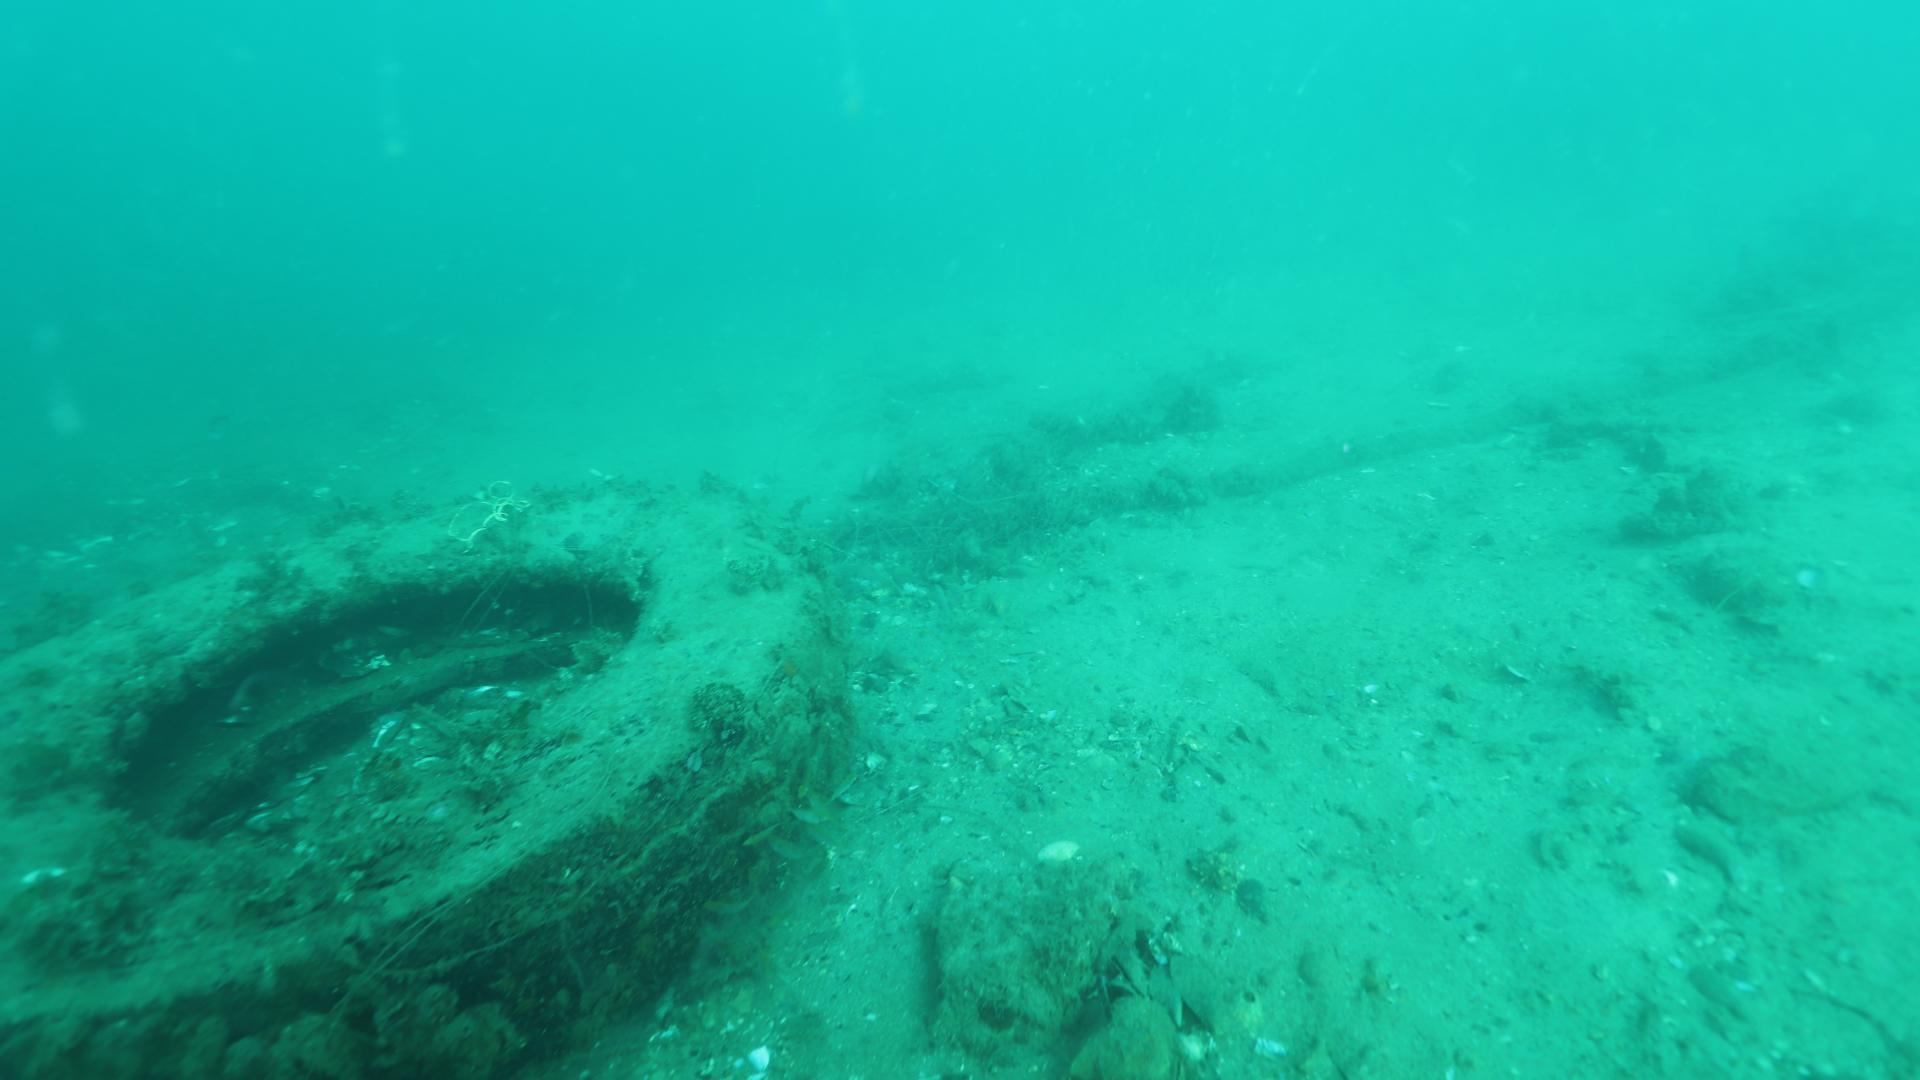tire: (3, 472, 836, 1080)
